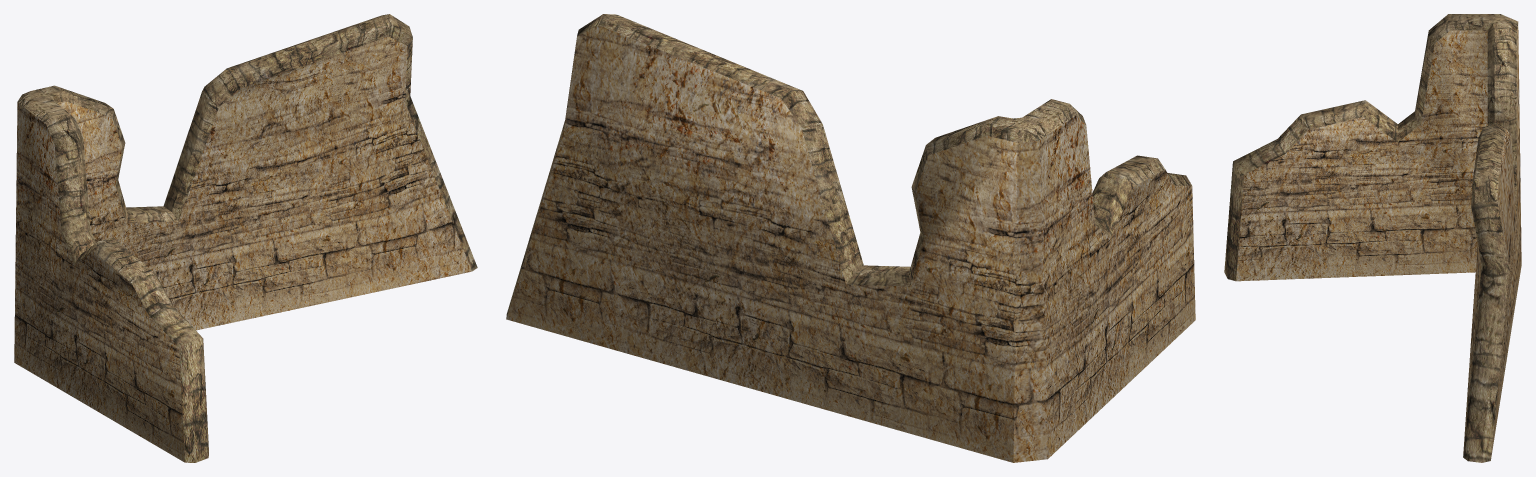
File: Ruins_Wall_04.fbx
3 renders of one model, left to right at view 1: azimuth 30°, elevation 25°; view 2: azimuth 150°, elevation 25°; view 3: azimuth 270°, elevation 25°, orthographic. The views are drawn at different scales.
Parts seen in each view (by area): view 1: Ruins_Wall_04; view 2: Ruins_Wall_04; view 3: Ruins_Wall_04.
Part boxes in pixels (left/top/right/bottom): Ruins_Wall_04: left=14, top=14, right=477, bottom=462; Ruins_Wall_04: left=506, top=14, right=1195, bottom=462; Ruins_Wall_04: left=1224, top=14, right=1521, bottom=462.
Bounding box in the file's own units: 4.62 × 2.61 × 2.82.
2 materials, 2 textured.
